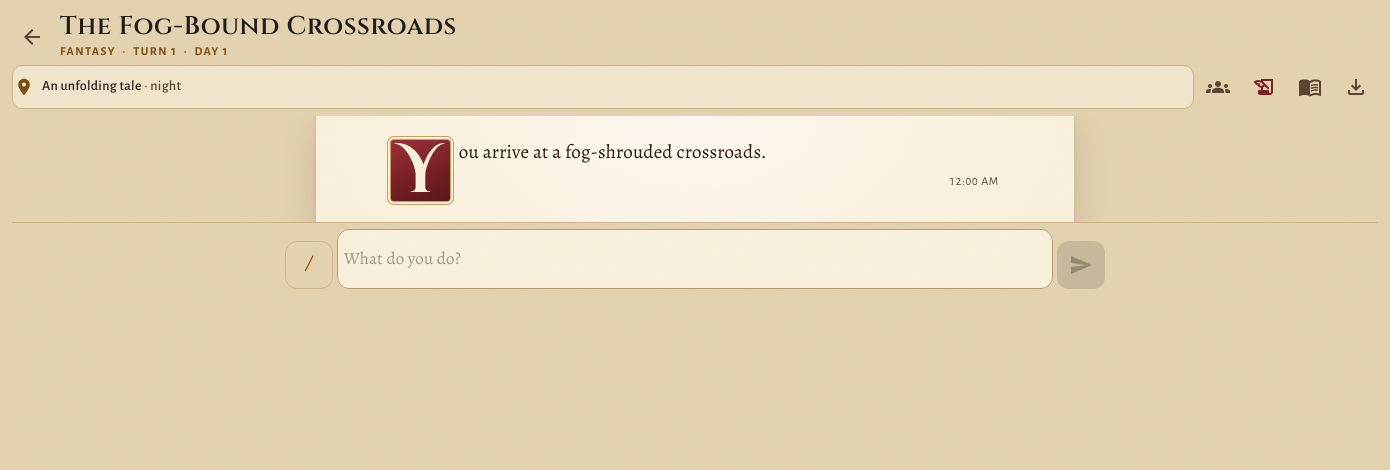
StoryPlay reading position › brings the start of a fresh reply into view
Type "I step into the mist." into the text box with placeholder "What do you do?" at (695, 259), box [344,234,1046,284]
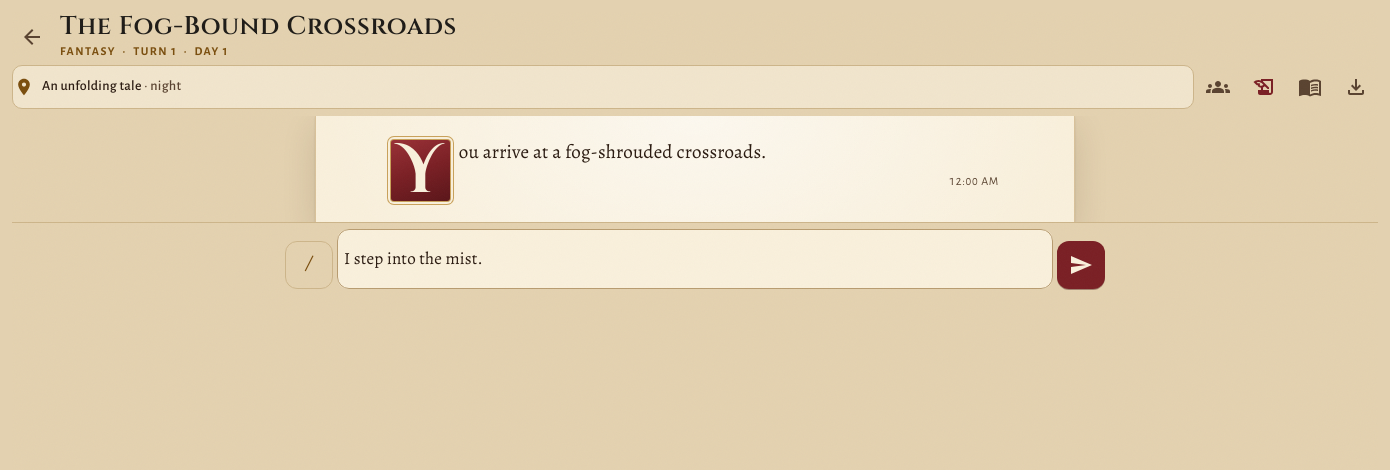
Submit the form with placeholder "What do you do?", box [285,229,1105,289]
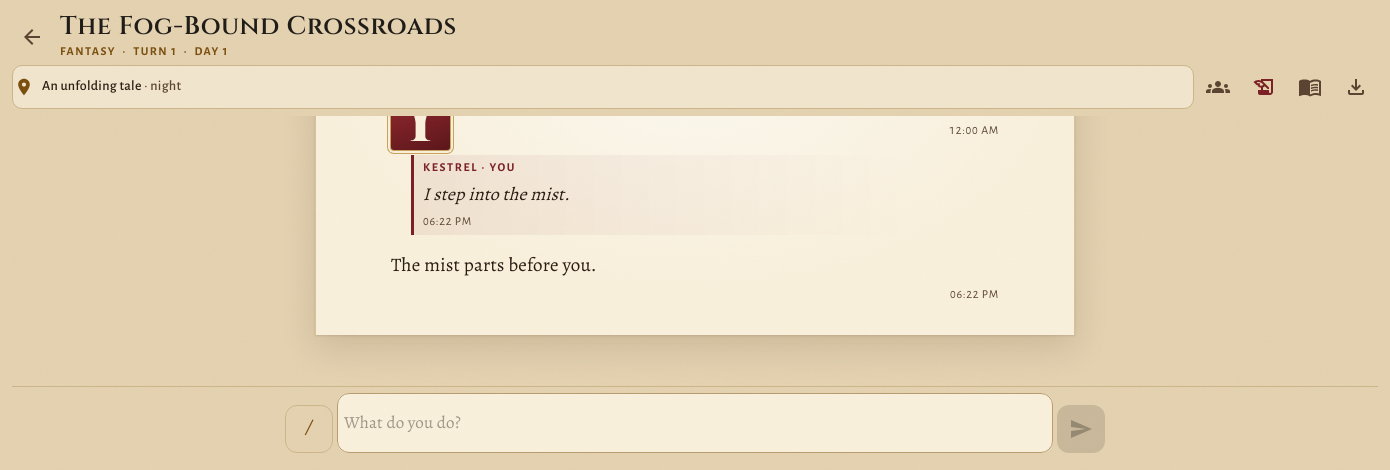
Expected: the text "The mist parts before you." is shown, [391,252,597,278]
